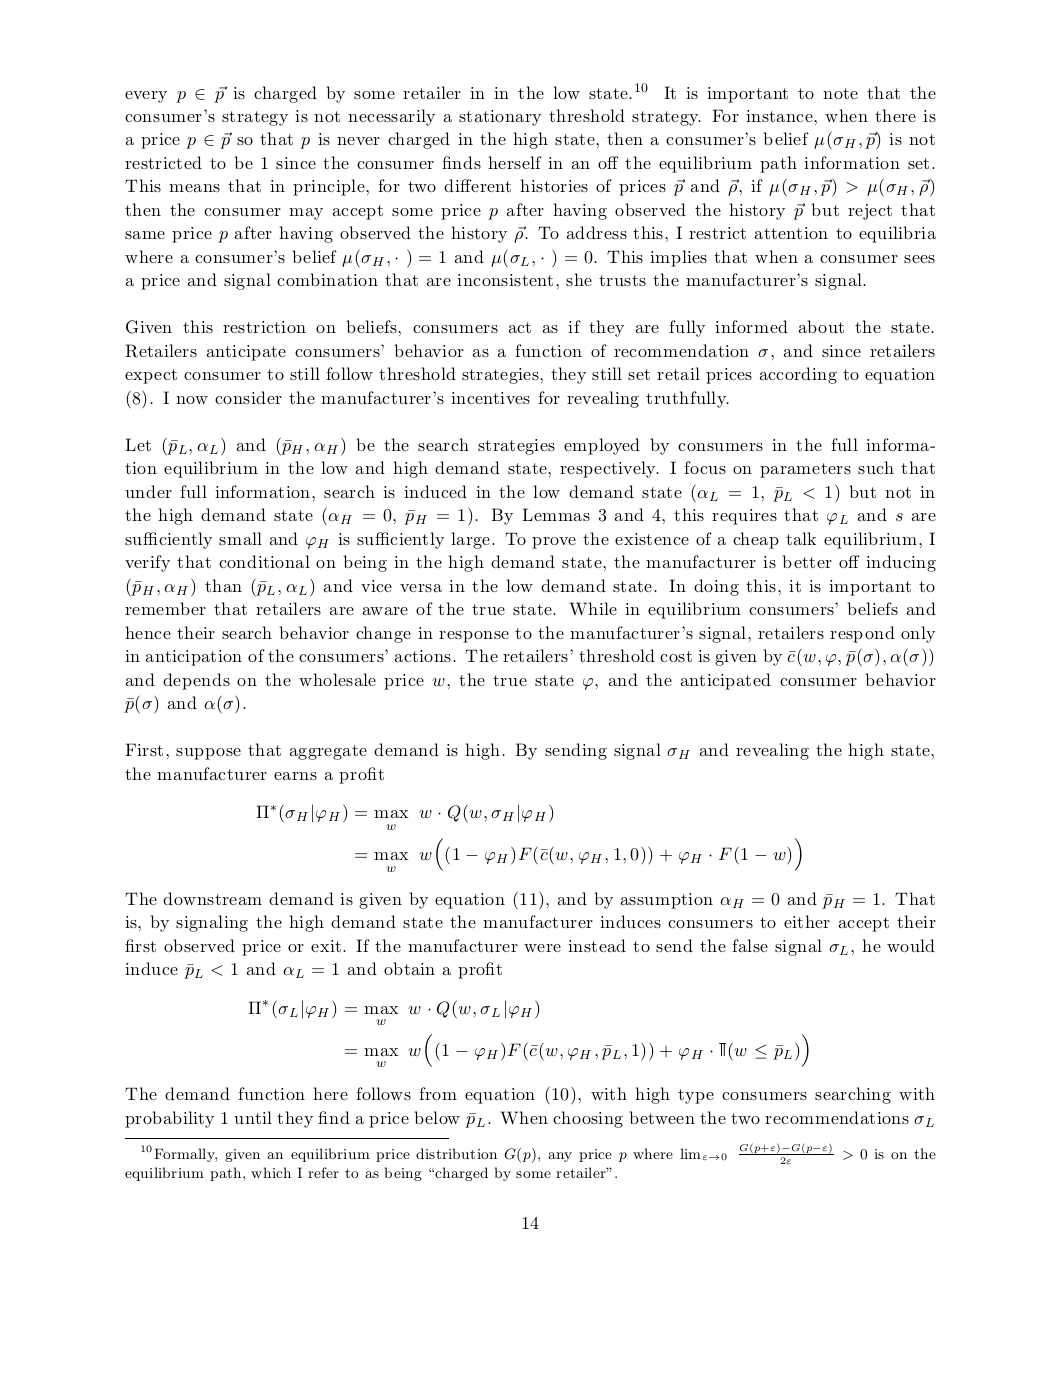formula: (345, 1033, 808, 1068), (356, 837, 801, 873), (249, 999, 539, 1026), (256, 804, 553, 822)
